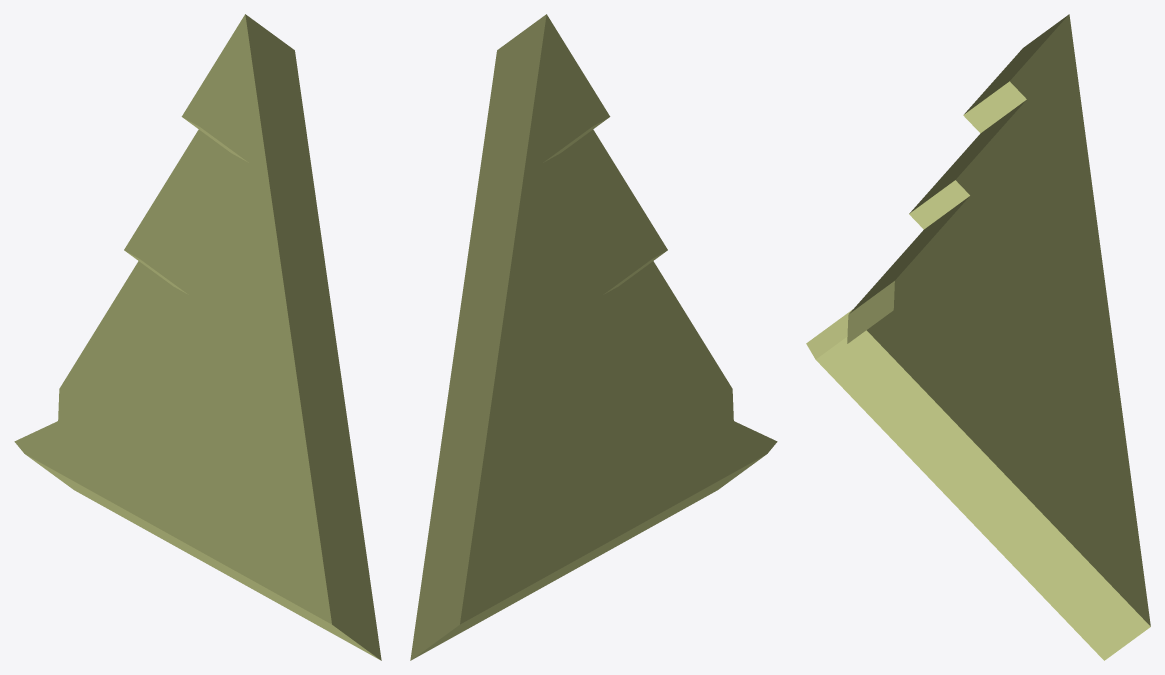
3 views of the same model, side by side, from view 1: azimuth 30°, elevation 25°; view 2: azimuth 150°, elevation 25°; view 3: azimuth 330°, elevation 25° (orthographic). The views are drawn at different scales.
Parts seen in each view (by area): view 1: 0_1_0_0_2_2_0_1_1; view 2: 0_1_0_0_2_2_0_1_1; view 3: 0_1_0_0_2_2_0_1_1.
Boxes of the visible parts, left/top/right/bottom form: 0_1_0_0_2_2_0_1_1: left=14, top=14, right=381, bottom=660; 0_1_0_0_2_2_0_1_1: left=410, top=14, right=777, bottom=660; 0_1_0_0_2_2_0_1_1: left=806, top=14, right=1150, bottom=660.
Bounding box in the file's own units: 22.19 × 42.17 × 6.
